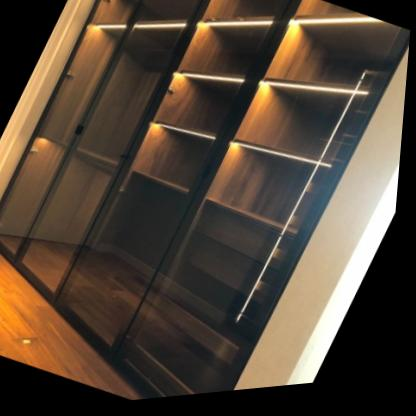Transparent Closet: (0, 0, 411, 402)
